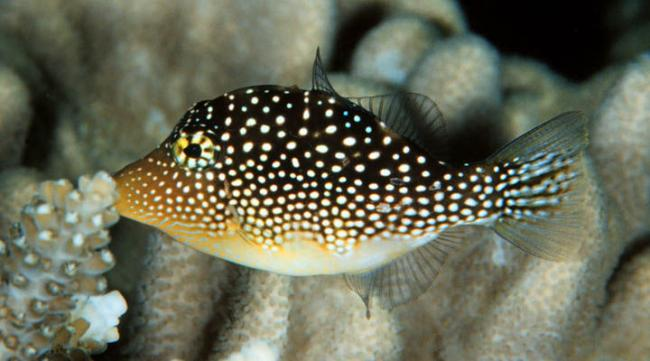fish: (113, 47, 594, 309)
